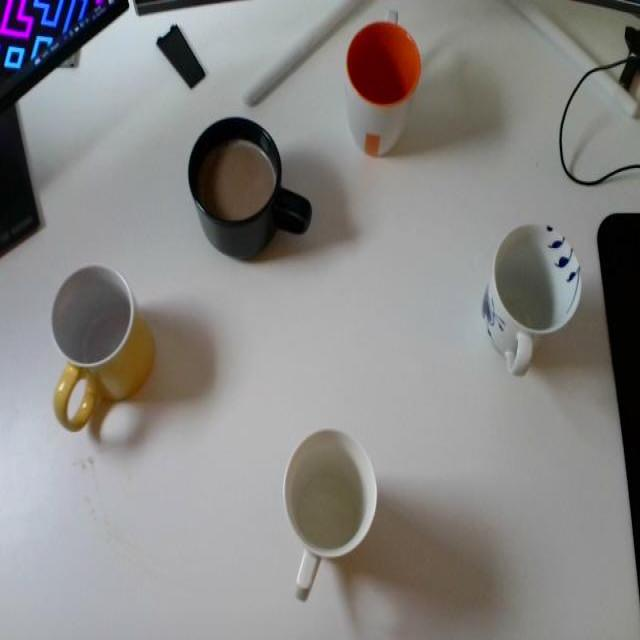cup: (264, 414, 392, 604), (470, 205, 589, 400), (178, 105, 314, 275), (44, 260, 160, 438), (331, 5, 430, 165)
